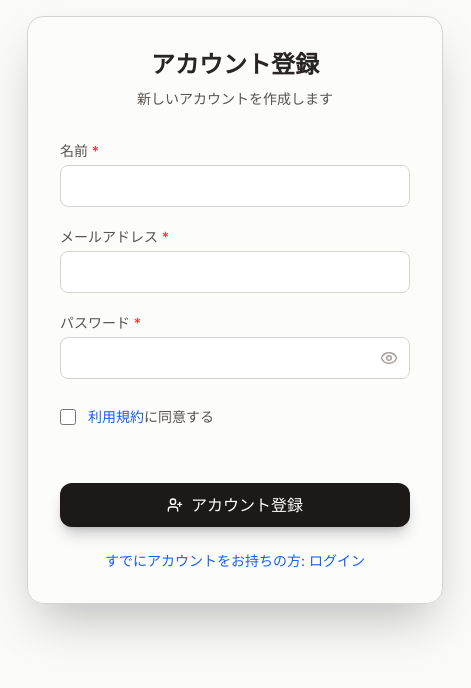
SignUpPage › shows a dialog when trying to sign up without agreeing to the terms
Type "Test User" into the field with test id "name-input" at (235, 186), box [60,165,410,207]
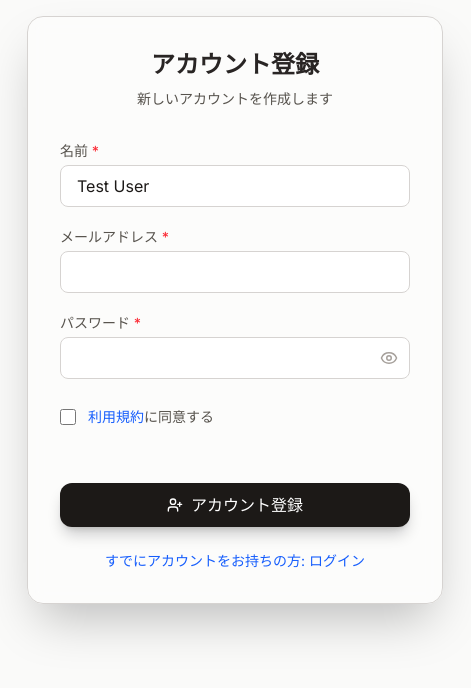
Type "test@example.com" into the field with test id "email-input" at (235, 272), box [60,251,410,293]
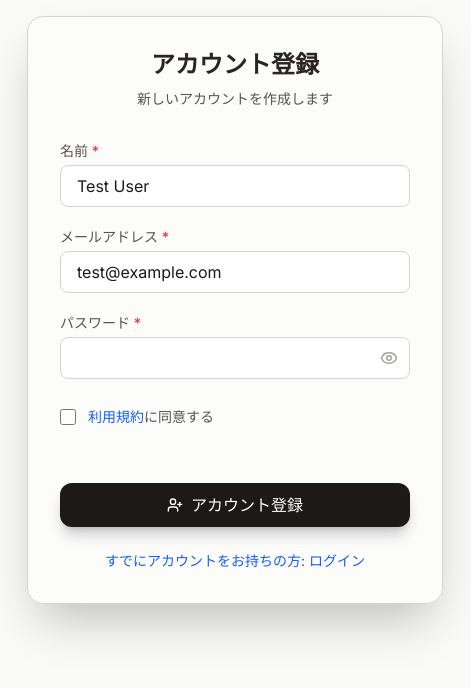
Type "password123" into the password field with test id "password-input" at (235, 358), box [60,337,410,379]
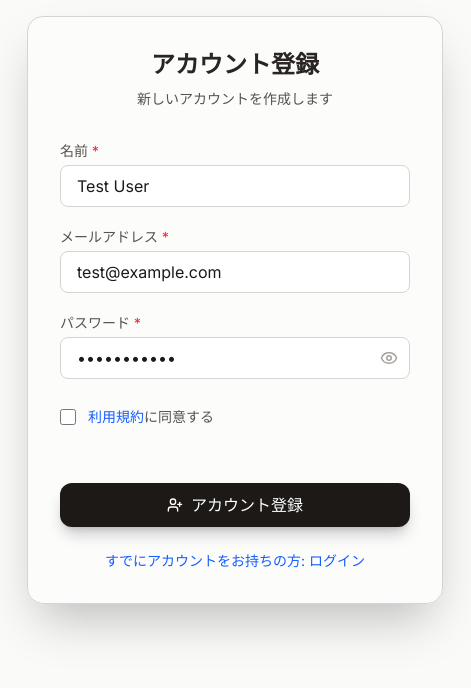
Click the button with test id "sign-up-button" at (235, 505), box [60,483,410,527]
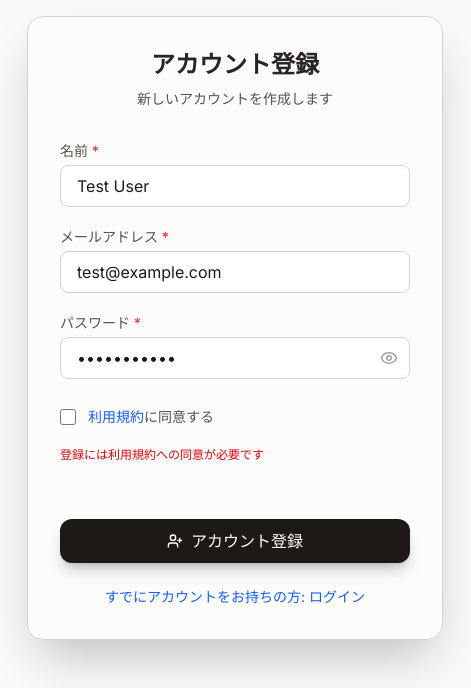
expect the text "登録には利用規約への同意が必要です" is shown: met, box [60,447,264,462]
